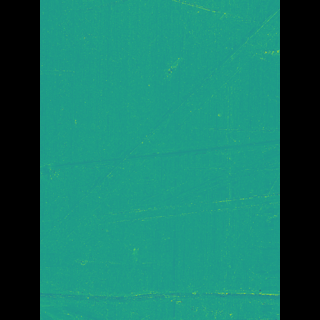Loch: (88, 1, 250, 225), (69, 128, 250, 182), (112, 190, 251, 229), (69, 282, 249, 310)
